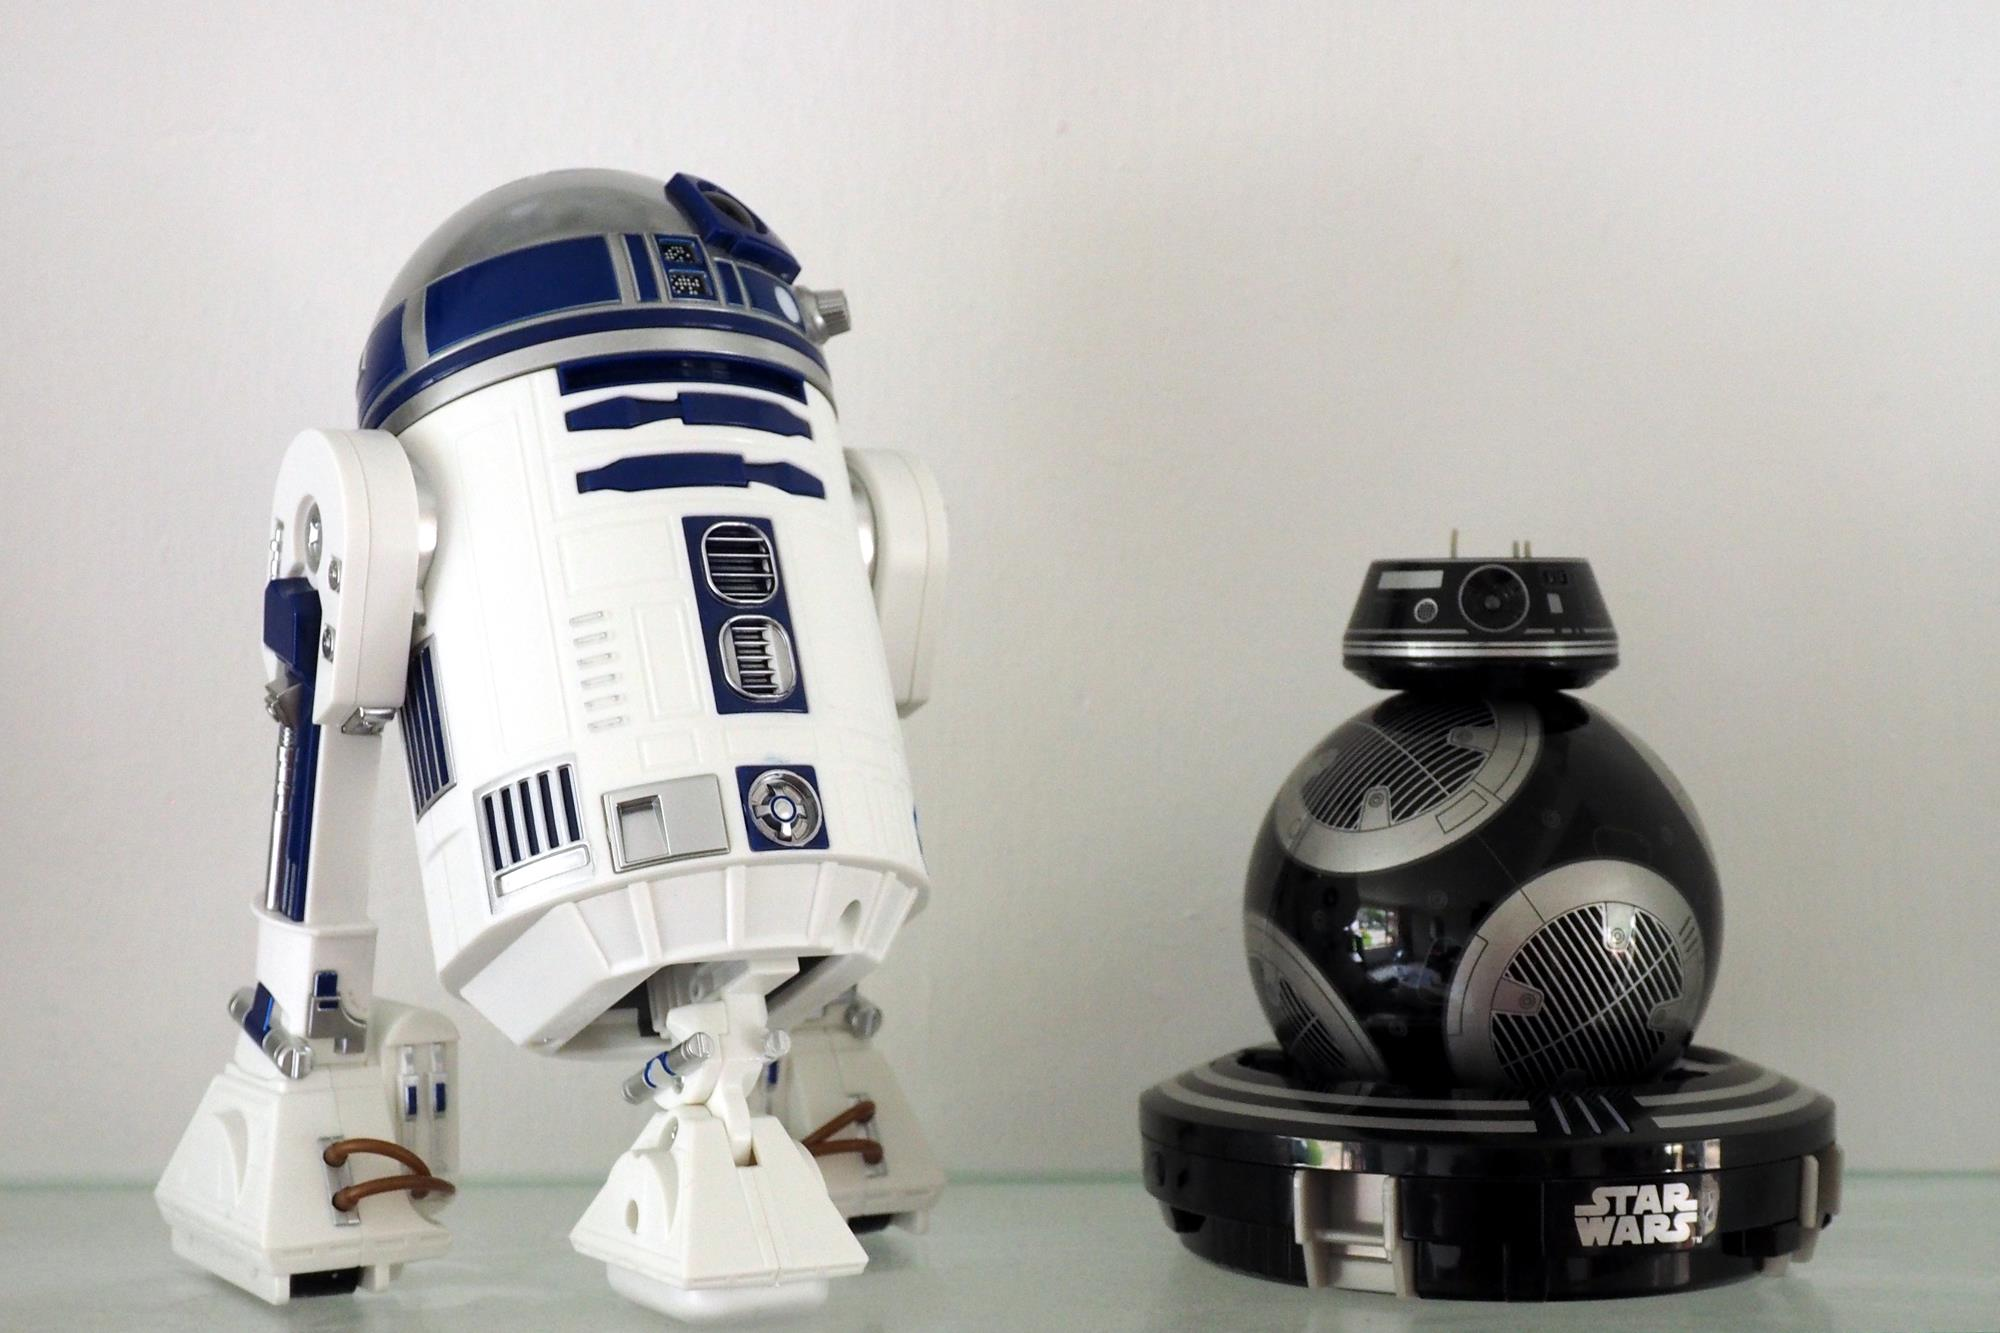r2d2: (152, 167, 955, 1308)
